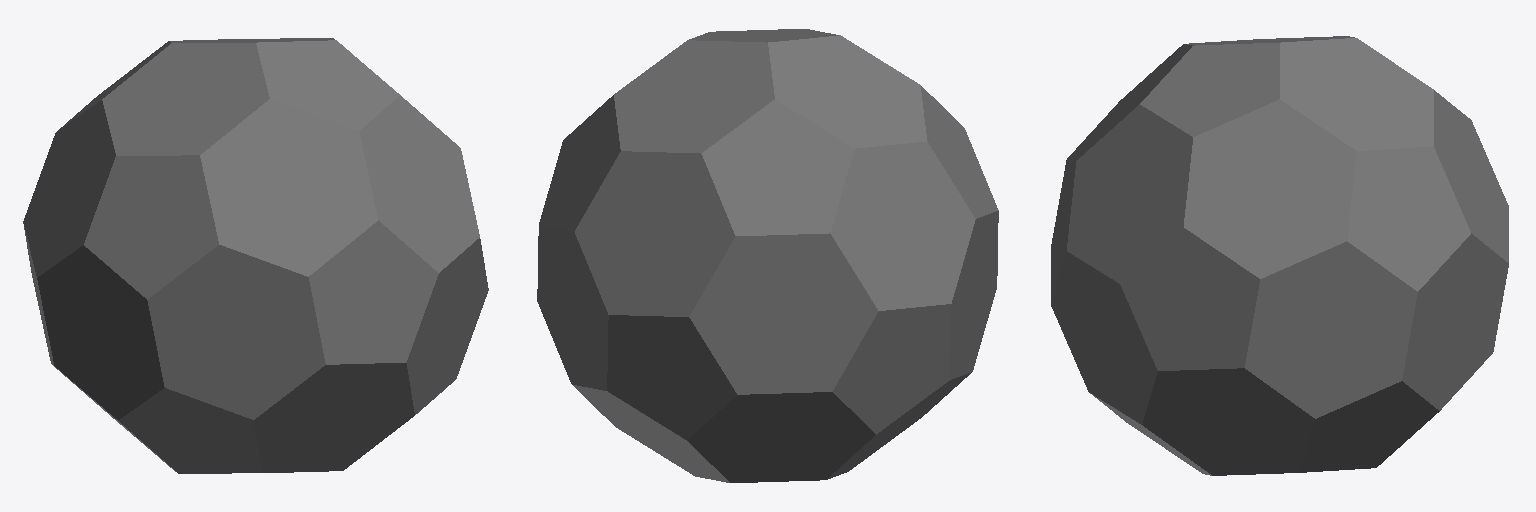
3 renders of one model, left to right at view 1: azimuth 30°, elevation 25°; view 2: azimuth 150°, elevation 25°; view 3: azimuth 270°, elevation 25°, orthographic.
Parts seen in each view (by area): view 1: sphere1:pSolid1; view 2: sphere1:pSolid1; view 3: sphere1:pSolid1.
Boxes of the visible parts, x1=… form: sphere1:pSolid1: x1=23, y1=38, x2=488, y2=473; sphere1:pSolid1: x1=537, y1=29, x2=998, y2=482; sphere1:pSolid1: x1=1051, y1=36, x2=1508, y2=475.
Size of the model in its own units: 1.08 by 1.09 by 1.06.